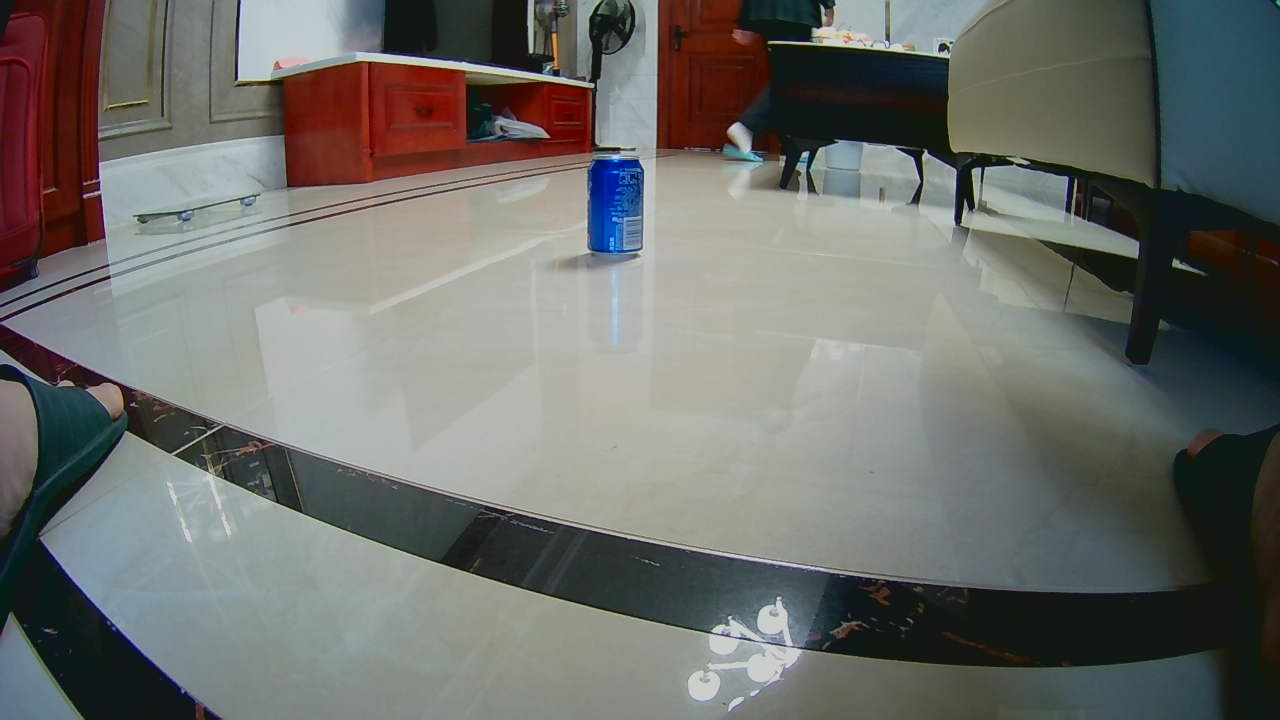pessi: (589, 145, 642, 258)
